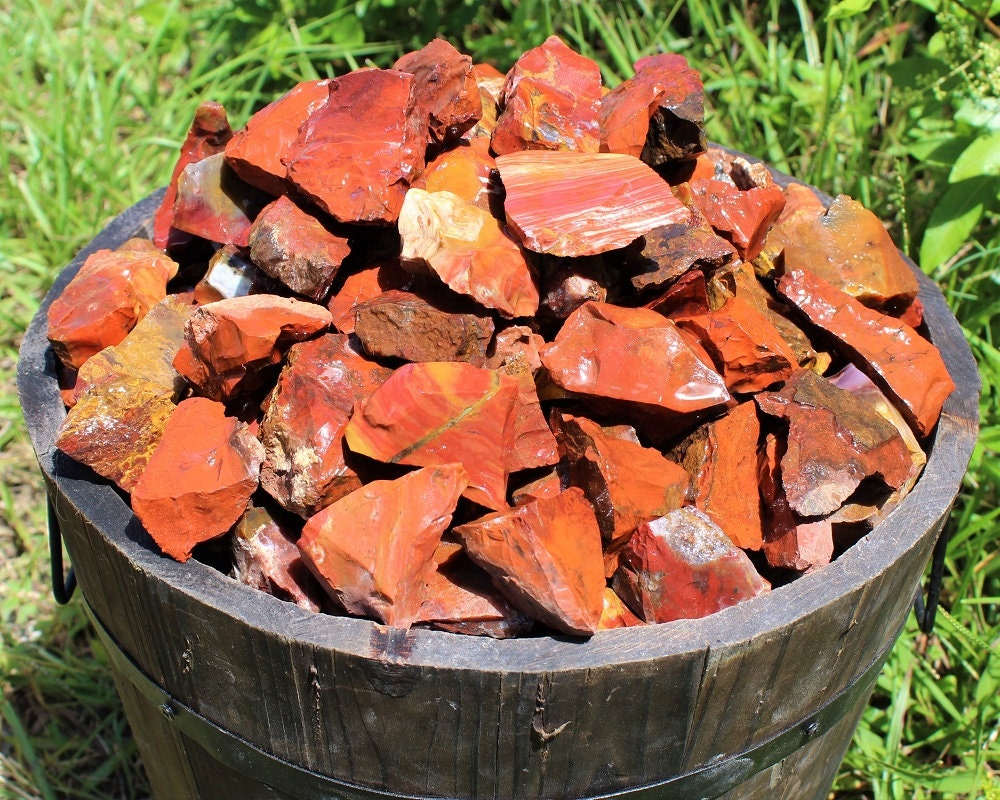Red_Jasper: (197, 105, 820, 537)
